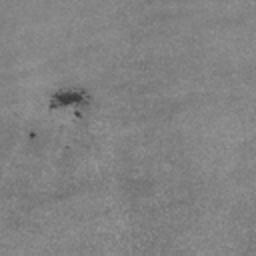Iron sheet ash: (49, 88, 86, 110), (74, 110, 83, 118)
